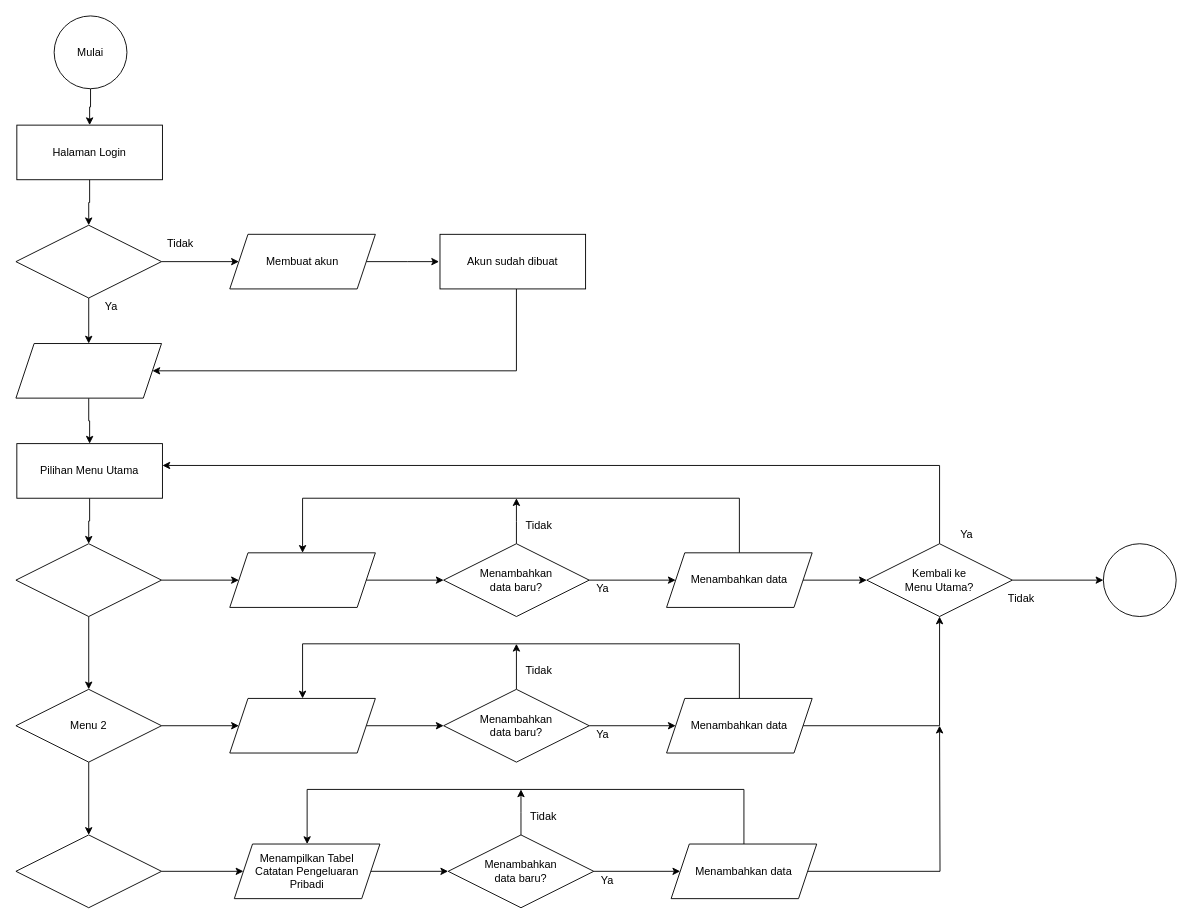
This 1192x924 diagram has some shape labels left out. Here are the shapes that lost their labels. From the top down, the centre of each, then its label:
At (x=88, y=261): "Sudah memiliki akun?".
At (x=88, y=370): "Login".
At (x=88, y=580): "Menu 1".
At (x=302, y=579): "Menampilkan Tabel Catatan Hutang Pribadi".
At (x=1139, y=580): "Selesai".
At (x=302, y=725): "Menampilkan Tabel Catatan Pemasukan Pribadi".
At (x=88, y=871): "Menu 3".
